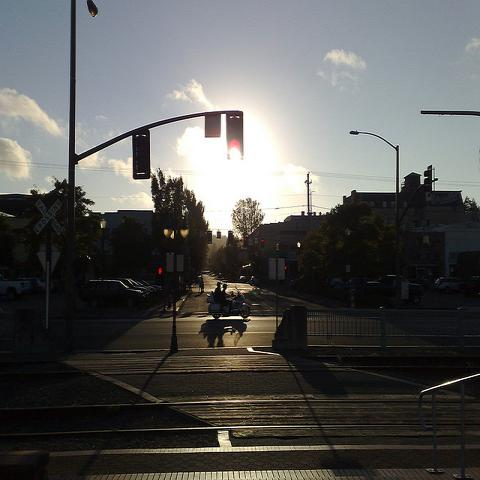car: (78, 281, 147, 308), (90, 278, 150, 296), (1, 278, 34, 302), (434, 274, 459, 294), (125, 278, 152, 293)
motorcycle: (206, 286, 251, 319)
truck: (366, 275, 423, 304), (0, 279, 31, 301), (22, 279, 42, 295)
